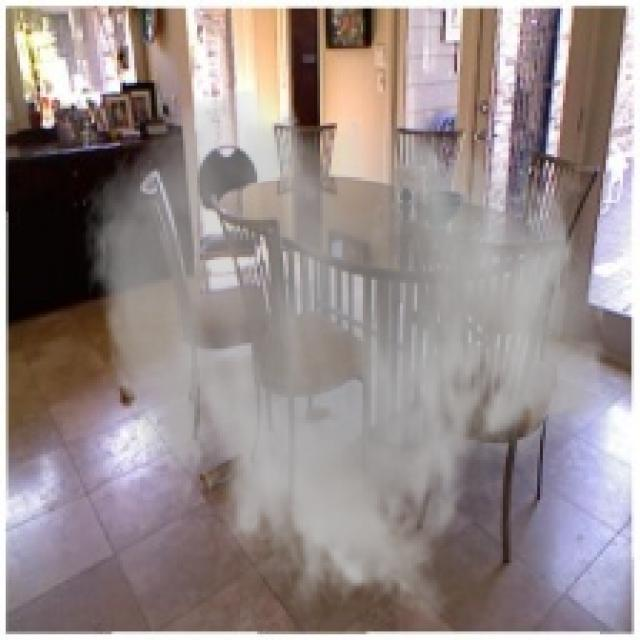smoke: (80, 85, 611, 626)
